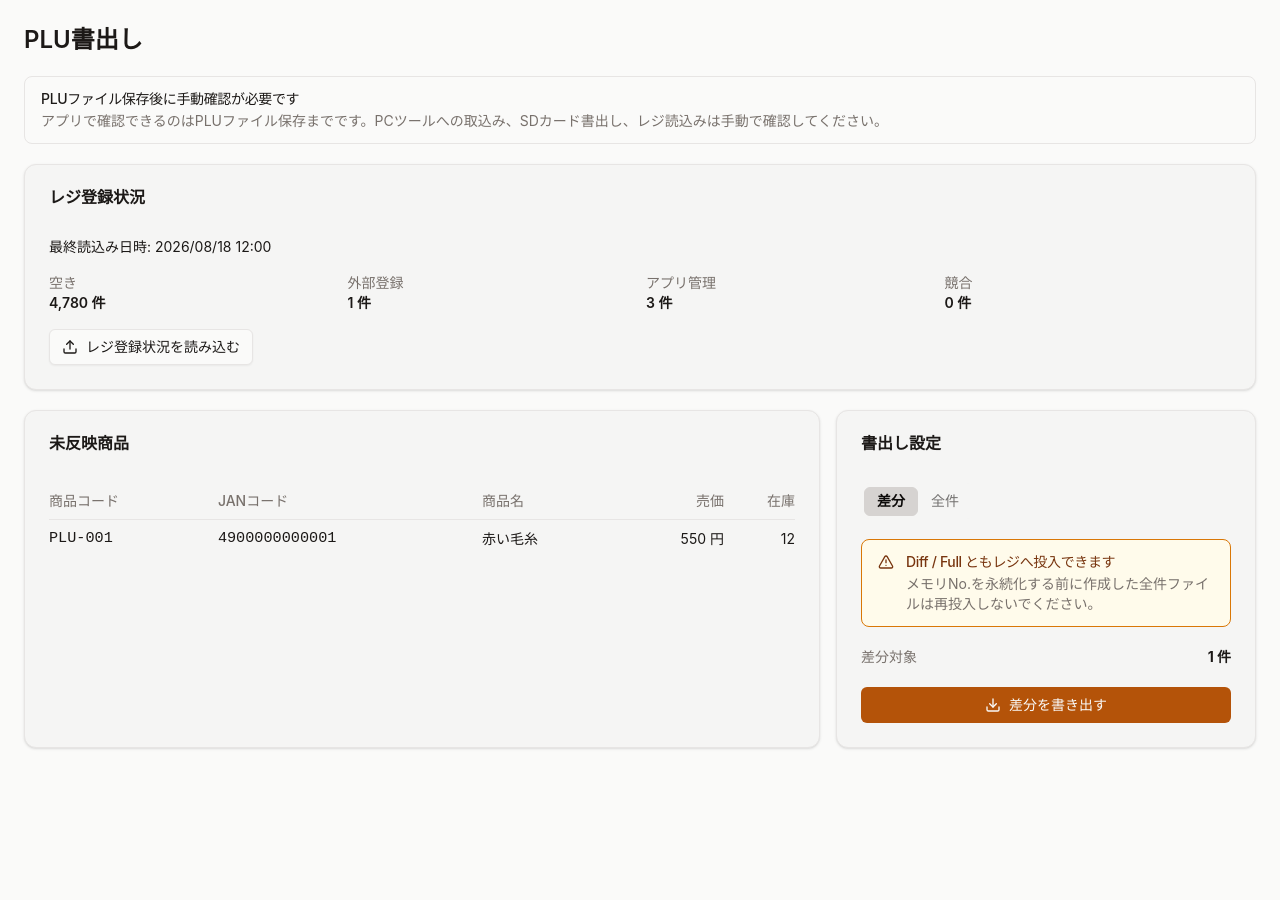
PluExportPage (UI-08 / REQ-402) › REQ-402 shows JAN correction guidance when all prepared targets are excluded
Click the button "差分を書き出す": x=1046, y=705 [861, 687, 1231, 723]
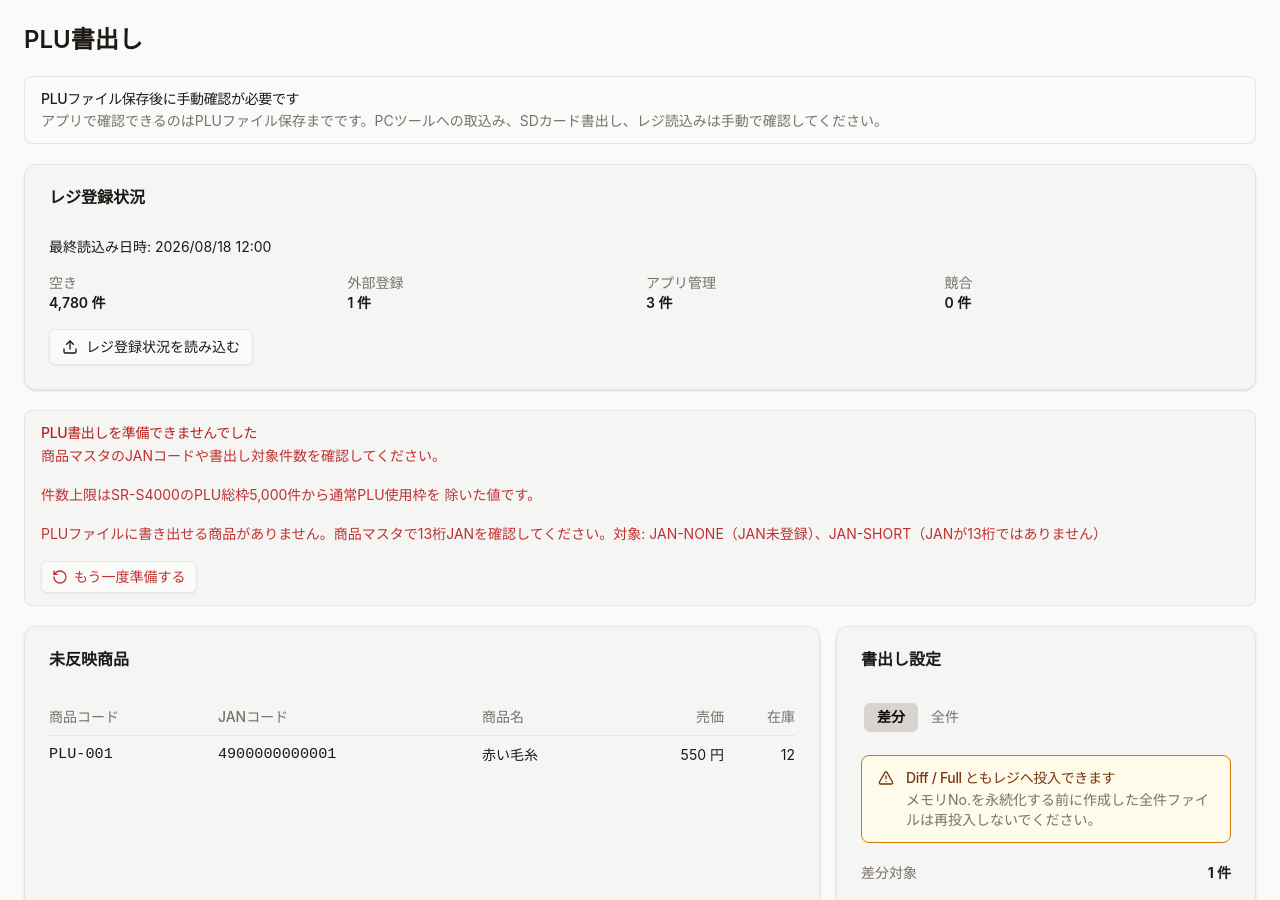
expect the text "PLU書出しを準備できませんでした" is shown: met, box [41, 424, 257, 441]
expect the text "JANが13桁ではありません" is shown: met, box [41, 524, 1107, 542]
